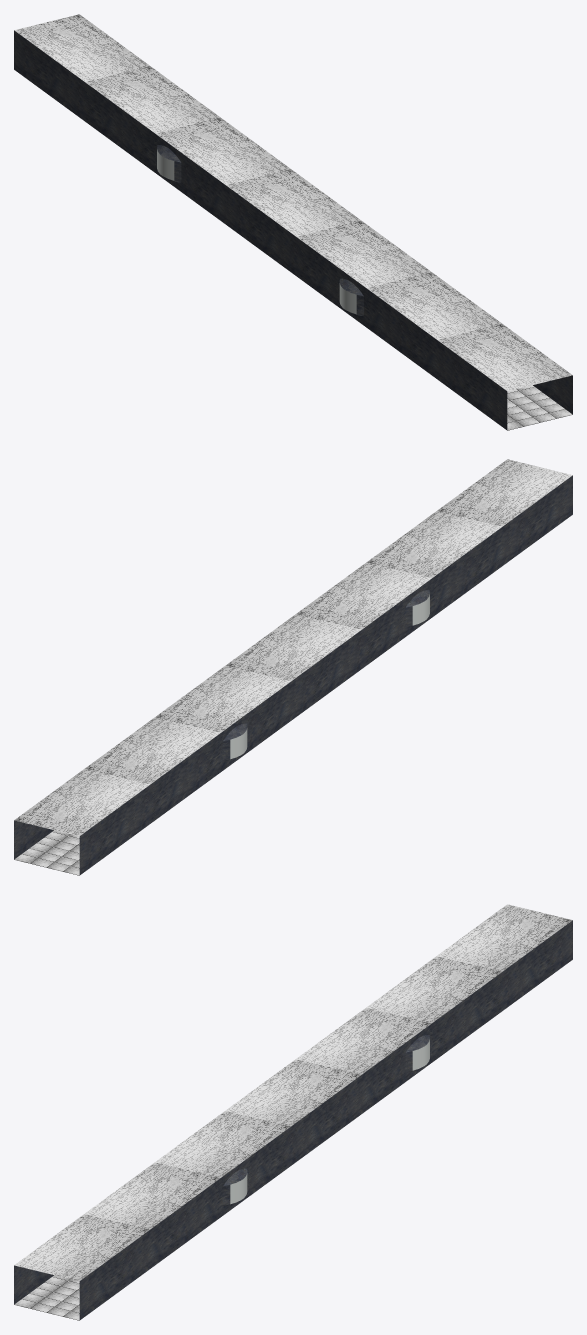
Rendered from Tunnel.fbx.
3 views of the same model, one above another, from view 1: azimuth 30°, elevation 25°; view 2: azimuth 150°, elevation 25°; view 3: azimuth 330°, elevation 25° (orthographic).
Parts seen in each view (by area): view 1: Object003, Plane001, Object005, Object002; view 2: Object003, Plane001, Object005, Object002; view 3: Object003, Plane001, Object005, Object002.
Part boxes in pixels (bbox=[...]): Object003: bbox=[14, 14, 572, 391]; Plane001: bbox=[14, 30, 572, 430]; Object005: bbox=[507, 385, 572, 430]; Object002: bbox=[157, 149, 356, 314]; Object003: bbox=[14, 459, 572, 836]; Plane001: bbox=[14, 475, 572, 875]; Object005: bbox=[14, 830, 79, 875]; Object002: bbox=[230, 594, 429, 759]; Object003: bbox=[14, 904, 572, 1281]; Plane001: bbox=[14, 920, 572, 1320]; Object005: bbox=[14, 1275, 79, 1320]; Object002: bbox=[230, 1039, 429, 1204].
Bounding box in the file's own units: 76.68 × 35.44 × 805.
Materials: 5 (3 with a texture image).
